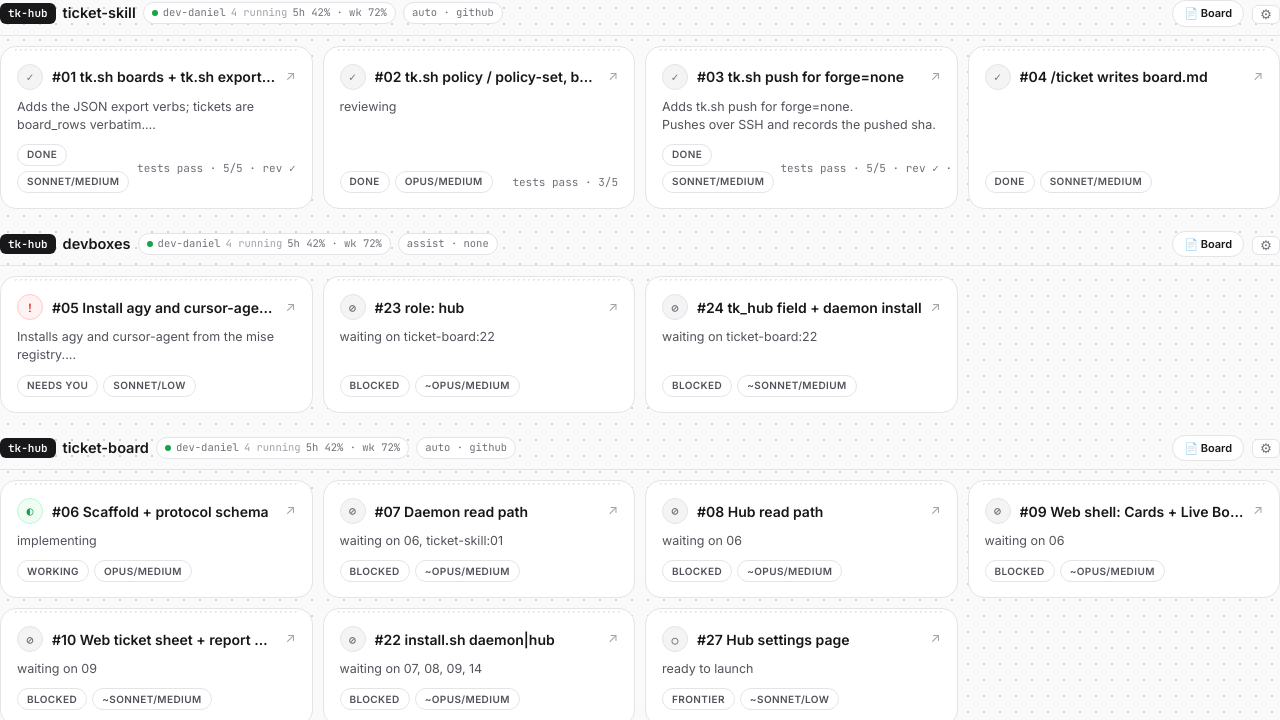
Scenario: Retro and sweep › lists the saved proposals from the board's data without running Retro
Click the 1st button "📄 Board": (1208, 13) [1172, 0, 1244, 26]
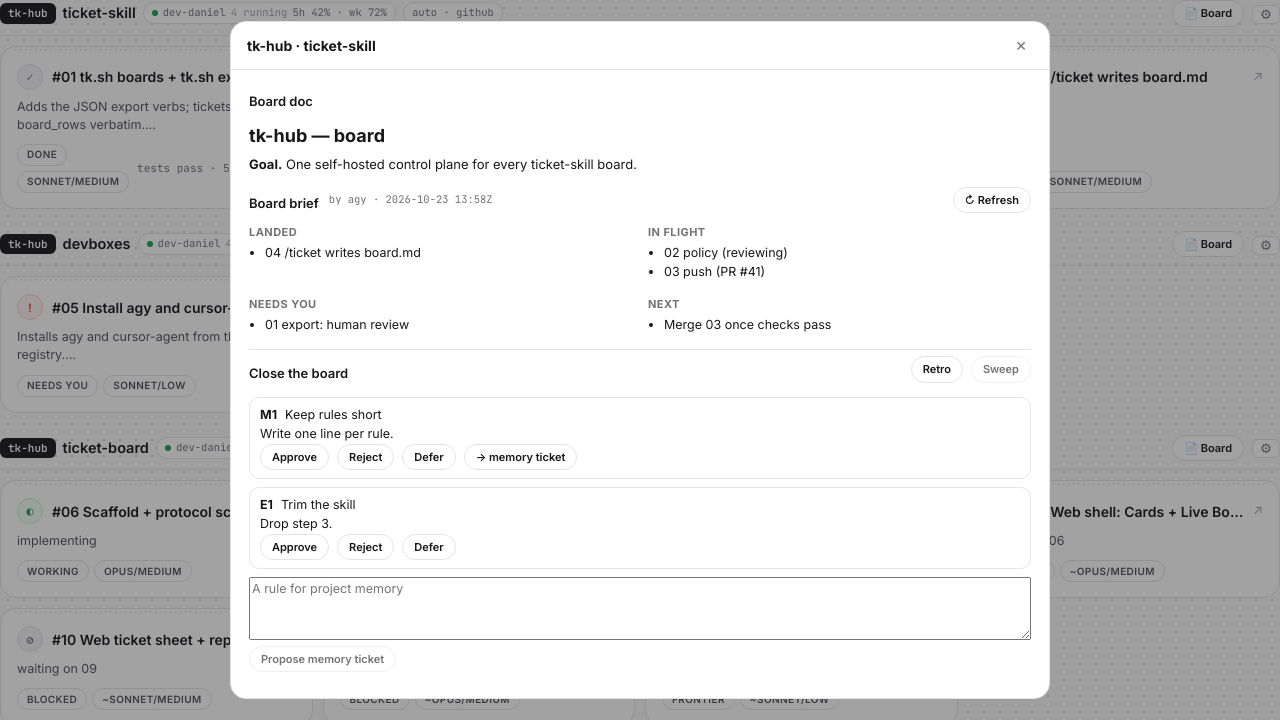
Now the element "M1" shows "Keep rules short", box [285, 407, 382, 422]
Now the element "E1" shows "Trim the skill", box [281, 497, 356, 512]
